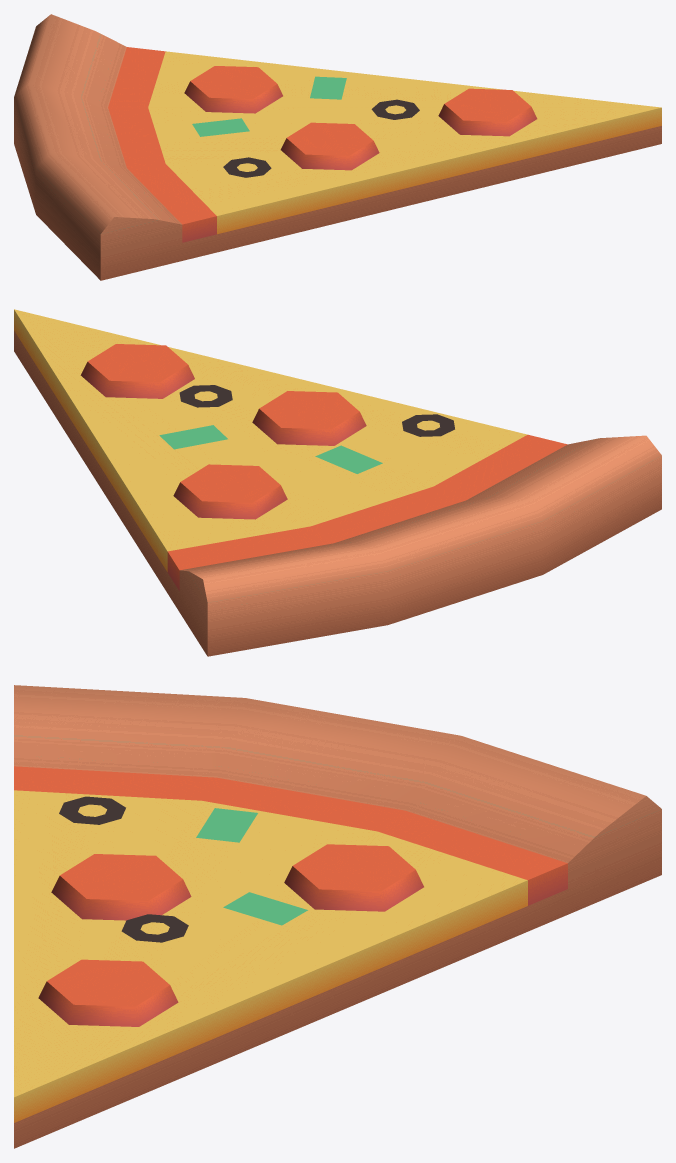
The model's file is pizza.glb.
3 renders of one model, top to bottom at view 1: azimuth 30°, elevation 25°; view 2: azimuth 150°, elevation 25°; view 3: azimuth 270°, elevation 25°, orthographic. The views are drawn at different scales.
Visible parts, largest first — view 1: slice1; view 2: slice1; view 3: slice1.
Boxes of the visible parts, box(x1,y1,x2,y2) form: slice1: box(14, 14, 661, 280); slice1: box(14, 309, 661, 656); slice1: box(14, 685, 661, 1148).
Size of the model in its own units: 0.4209 by 0.0435 by 0.2976.
Materials: 1 (1 with a texture image).
